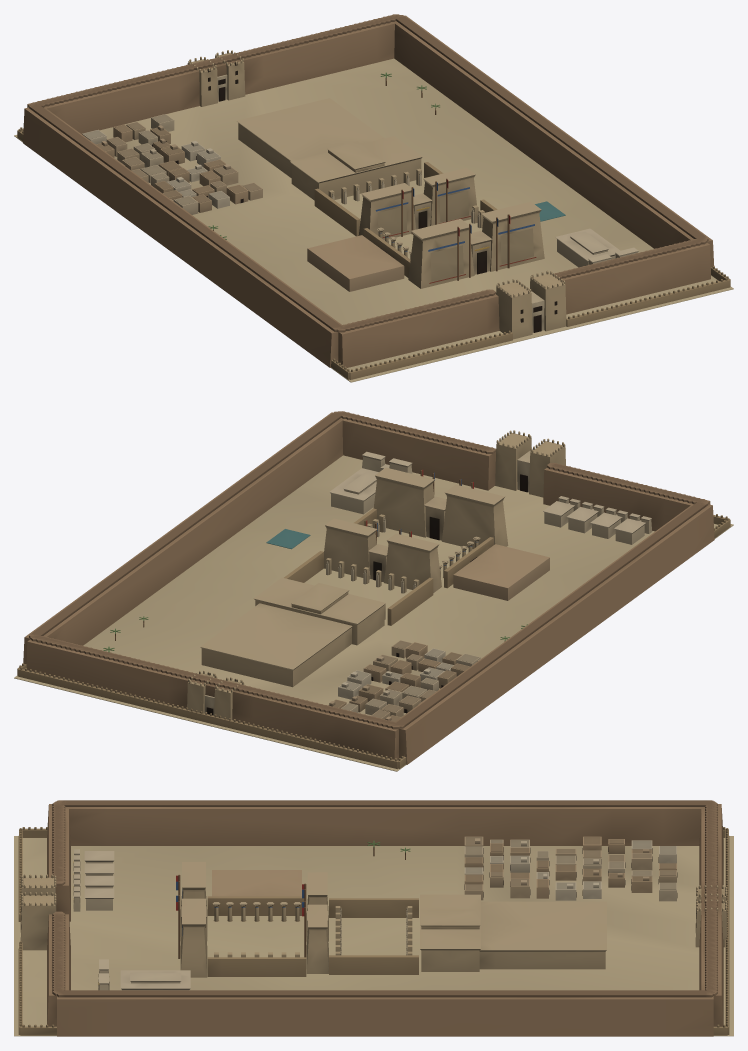
Rendered from medinet-habu.glb.
The picture shows the model from 3 angles, top to bottom: view 1: azimuth 30°, elevation 25°; view 2: azimuth 150°, elevation 25°; view 3: azimuth 270°, elevation 25°; orthographic projection. The views are drawn at different scales.
Visible parts, largest first — view 1: p0_walls, p1_temple, p3_houses, p2_chapels; view 2: p0_walls, p1_temple, p3_houses, p2_chapels; view 3: p0_walls, p1_temple, p3_houses, p2_chapels.
Boxes of the visible parts, x1,y1,x2,y2 form: p0_walls: (14, 14, 733, 382); p1_temple: (187, 50, 638, 339); p3_houses: (82, 72, 439, 239); p2_chapels: (328, 168, 484, 259); p0_walls: (14, 411, 733, 771); p1_temple: (187, 430, 565, 719); p3_houses: (103, 616, 527, 721); p2_chapels: (326, 496, 652, 619); p0_walls: (14, 800, 733, 1036); p1_temple: (20, 862, 726, 990); p3_houses: (367, 836, 677, 901); p2_chapels: (73, 849, 412, 957).
Bounding box in the file's own units: 211 × 28.33 × 320.
